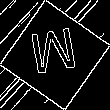M_S: (28, 26, 82, 84)
